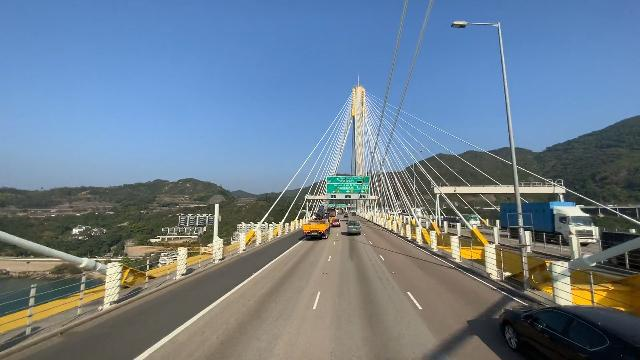car: (496, 298, 640, 360), (331, 217, 340, 227), (331, 217, 336, 223), (343, 213, 348, 218)
truck: (498, 201, 598, 246), (301, 204, 332, 242), (327, 207, 337, 217)
van: (343, 217, 363, 236)
